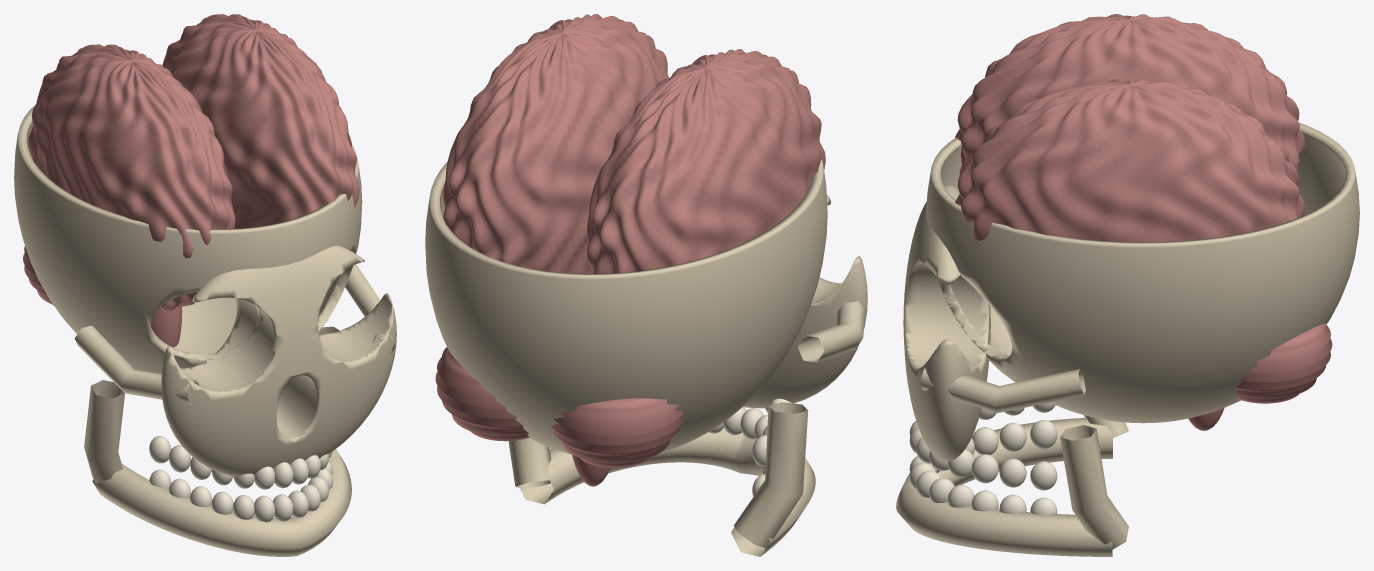
File: lab-head-internal-v2-ultra.glb
The picture shows the model from 3 angles, left to right: view 1: azimuth 30°, elevation 25°; view 2: azimuth 150°, elevation 25°; view 3: azimuth 270°, elevation 25°; orthographic projection. The views are drawn at different scales.
Visible parts, largest first — view 1: part-skull-structures, part-brain-structures, part-skull-structures.001; view 2: part-brain-structures, part-skull-structures, part-skull-structures.001; view 3: part-skull-structures, part-brain-structures, part-skull-structures.001.
Boxes of the visible parts, <box> form: part-skull-structures: <box>14,104,396,556</box>; part-brain-structures: <box>23,14,359,347</box>; part-skull-structures.001: <box>149,436,332,522</box>; part-brain-structures: <box>435,14,825,486</box>; part-skull-structures: <box>425,159,867,556</box>; part-skull-structures.001: <box>708,398,791,496</box>; part-skull-structures: <box>896,122,1359,556</box>; part-brain-structures: <box>955,14,1332,430</box>; part-skull-structures.001: <box>909,402,1057,515</box>.
Size of the model in its own units: 9.32 by 13.63 by 12.19.
